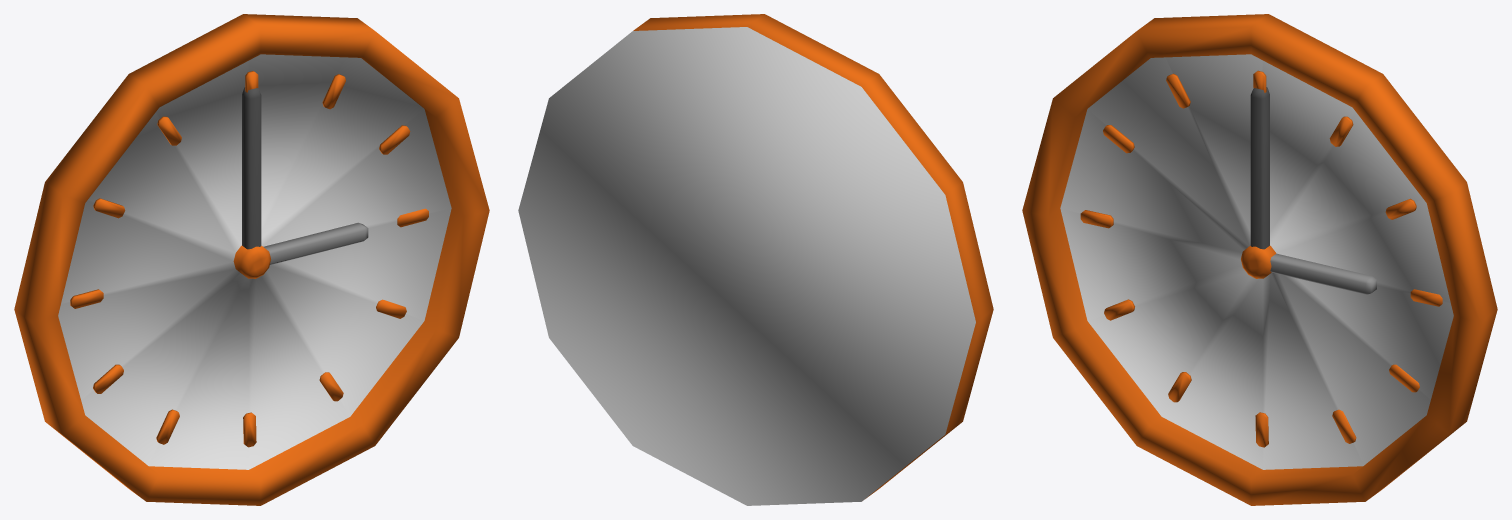
The model's file is Clock.fbx.
3 renders of one model, left to right at view 1: azimuth 30°, elevation 25°; view 2: azimuth 150°, elevation 25°; view 3: azimuth 330°, elevation 25°, orthographic.
Visible parts, largest first — view 1: Cylinder, Cube.002, Cube, Cube.001; view 2: Cylinder; view 3: Cylinder, Cube.002, Cube, Cube.001.
Part boxes in pixels (x1,y1,x2,y2): Cylinder: (14, 14, 489, 505); Cube.002: (70, 71, 428, 447); Cube: (242, 87, 261, 249); Cube.001: (263, 222, 368, 264); Cylinder: (518, 14, 993, 505); Cylinder: (1022, 14, 1497, 505); Cube.002: (1080, 70, 1442, 447); Cube: (1250, 87, 1269, 249); Cube.001: (1270, 253, 1376, 294).
Size of the model in its own units: 30 by 30 by 2.
